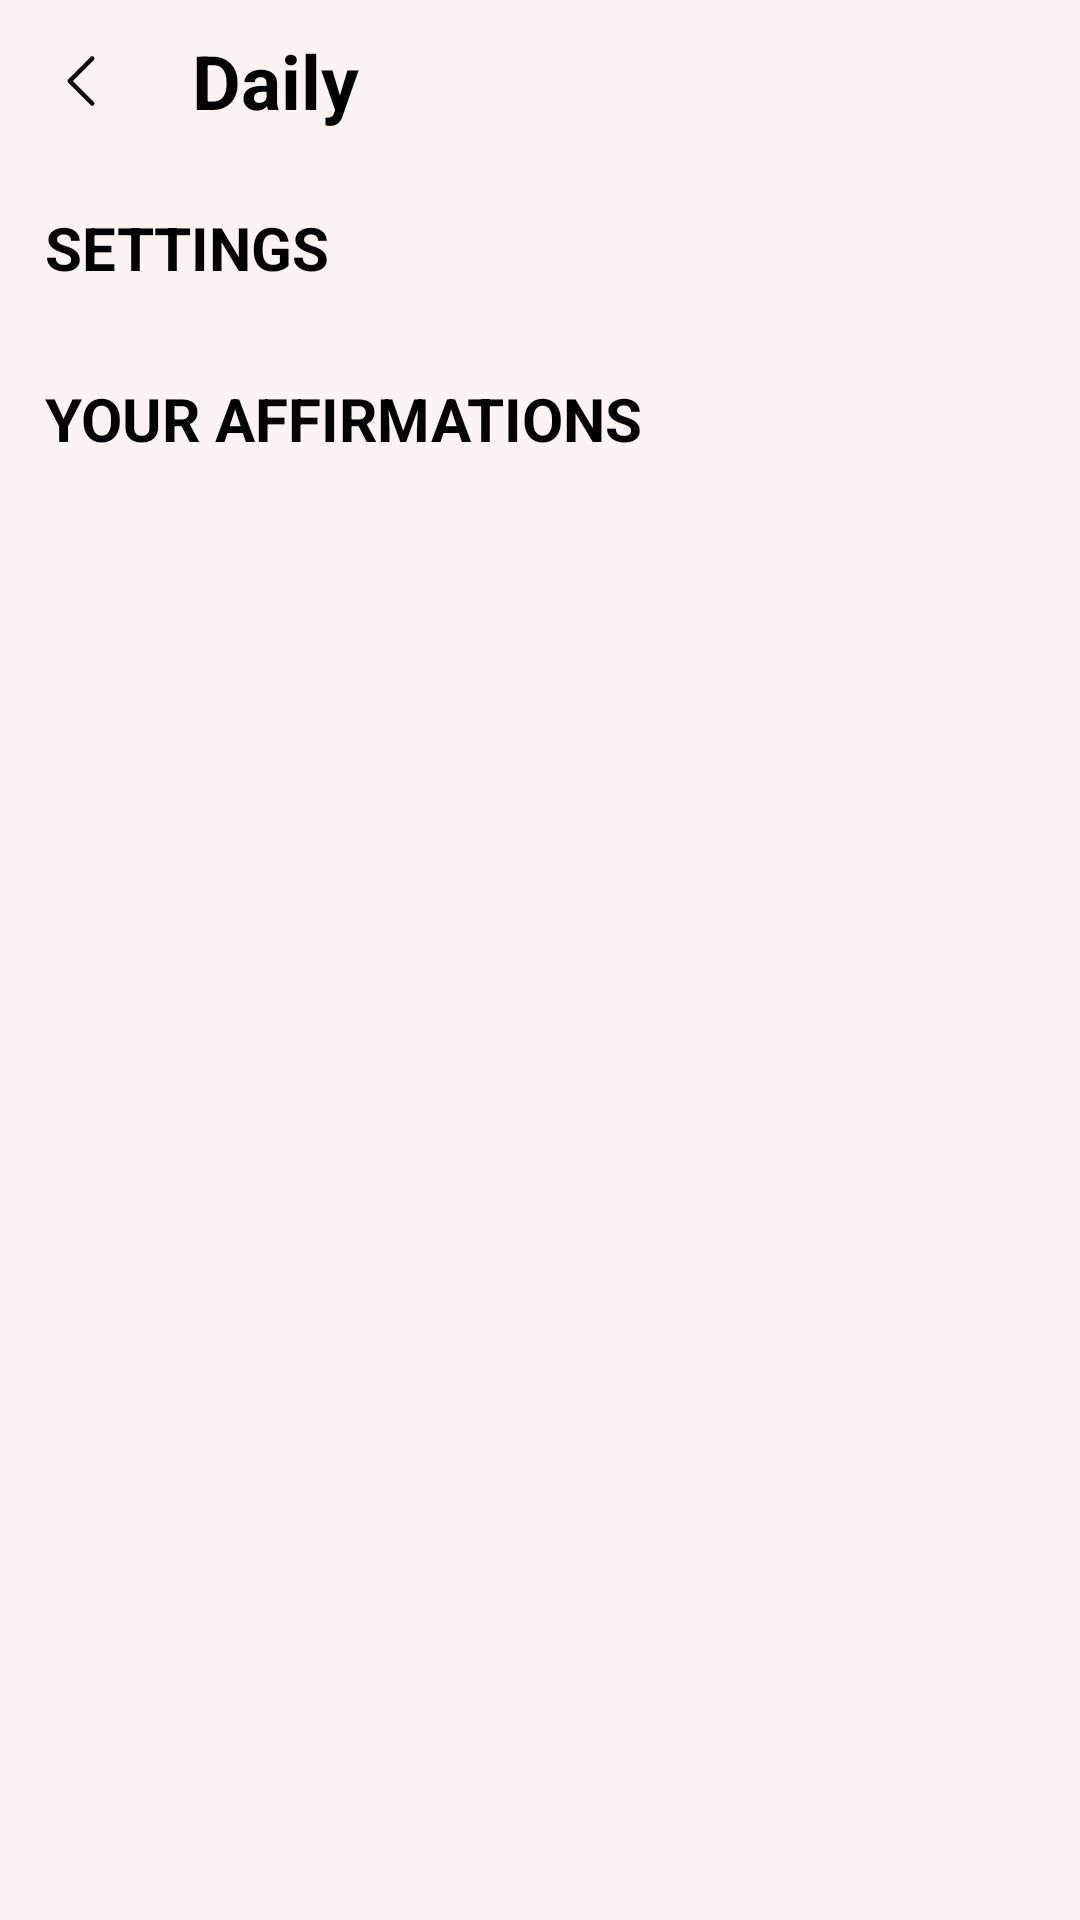

Where to tap for icons on this 1080x1920 app screen, as [x,y]:
back: [81,81]
